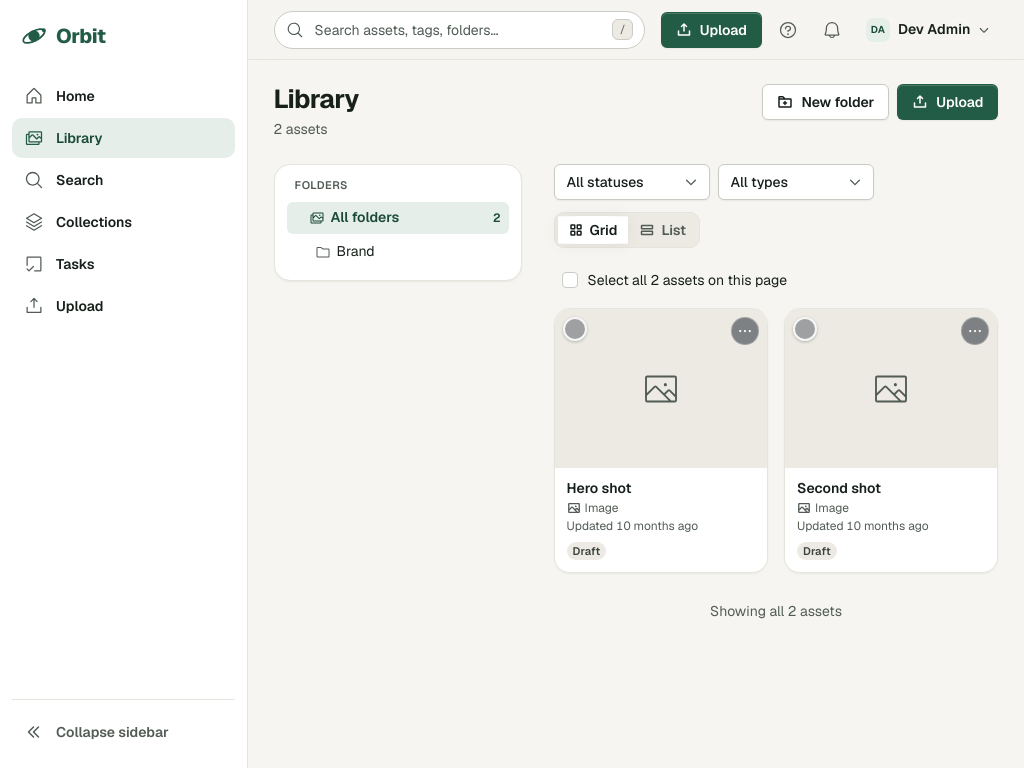
Test: bulk edit › moves selected assets to a chosen folder
Expected: the text "Hero shot" is shown, top-left (567, 480), bottom-right (631, 498)
Click the checkbox named "Select Hero shot": {"x": 575, "y": 329} top-left (563, 317), bottom-right (587, 341)
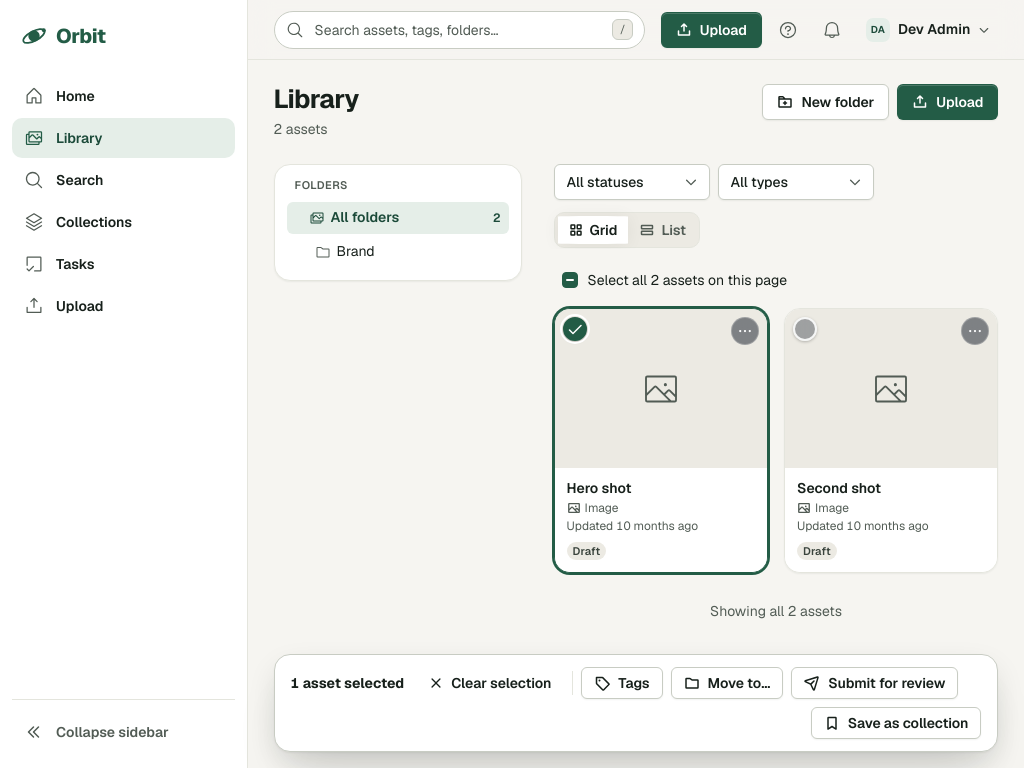
Result: the element "1 asset selected" is shown at top-left (274, 654), bottom-right (998, 752)
Click the button "Move to…": {"x": 727, "y": 683} top-left (670, 667), bottom-right (783, 699)
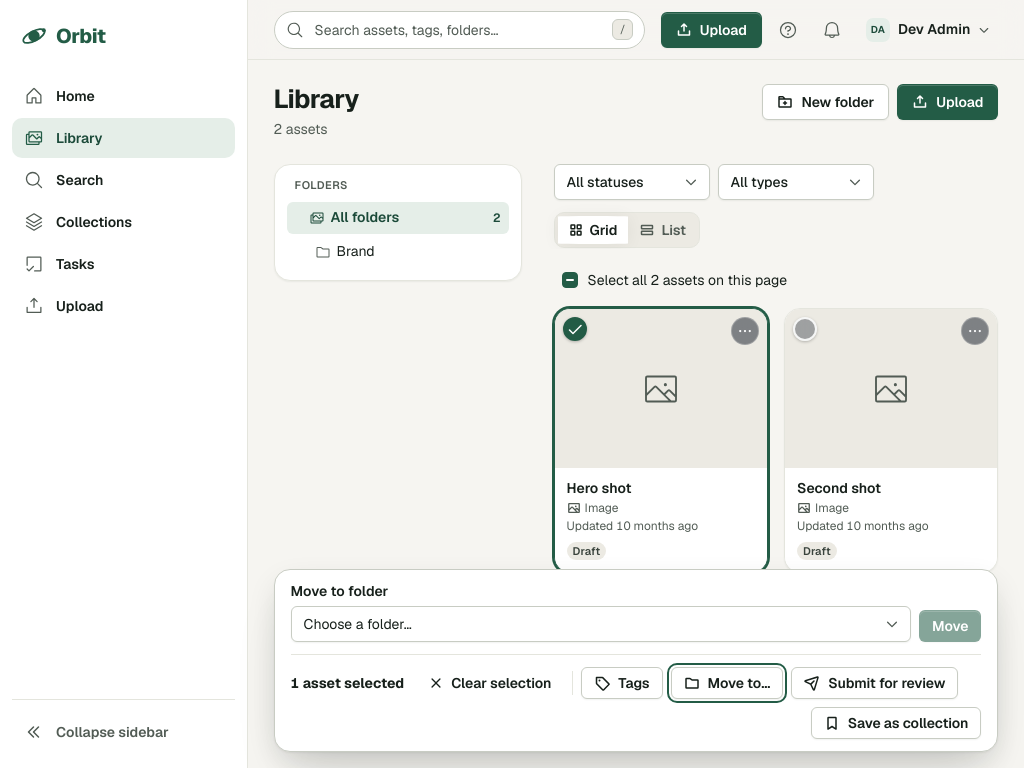
Result: the button "Move" is disabled at top-left (919, 610), bottom-right (981, 642)
Select "Brand" in the dropdown labelled "Move to folder": {"x": 601, "y": 624} top-left (291, 606), bottom-right (911, 642)
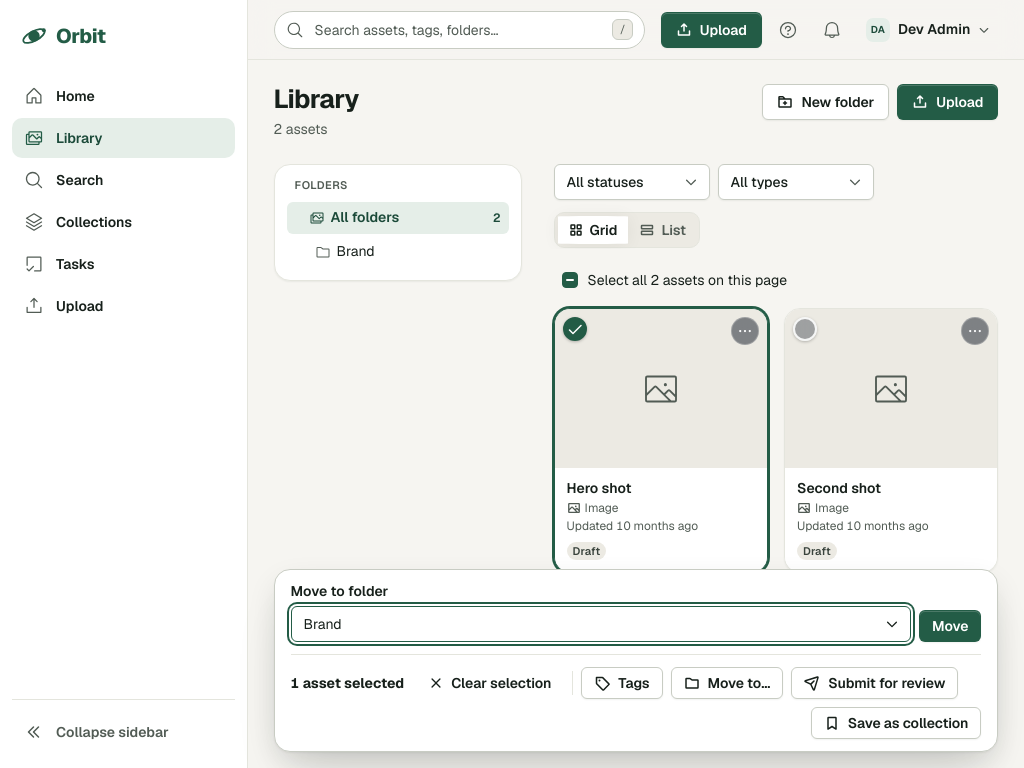
Result: the button "Move" is enabled
Click the button "Move": {"x": 950, "y": 626} top-left (919, 610), bottom-right (981, 642)
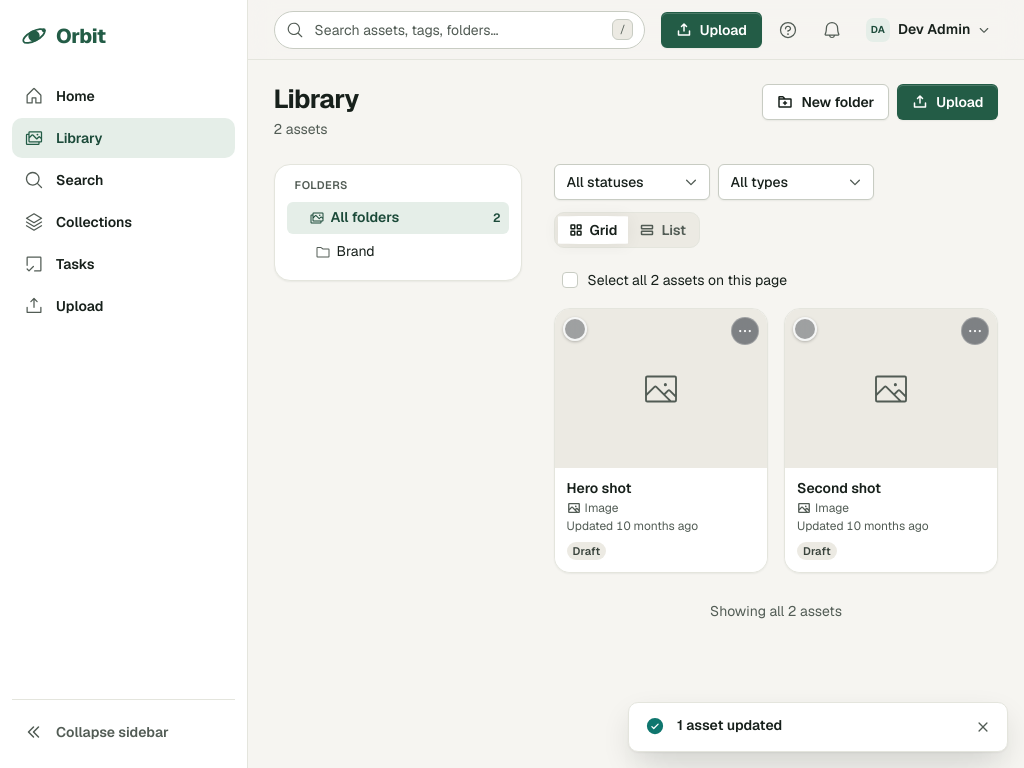
Result: the text "1 asset updated" is shown at top-left (677, 716), bottom-right (782, 734)
